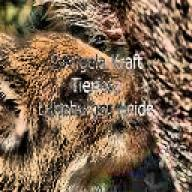boar: (0, 0, 192, 192), (0, 24, 154, 192)
